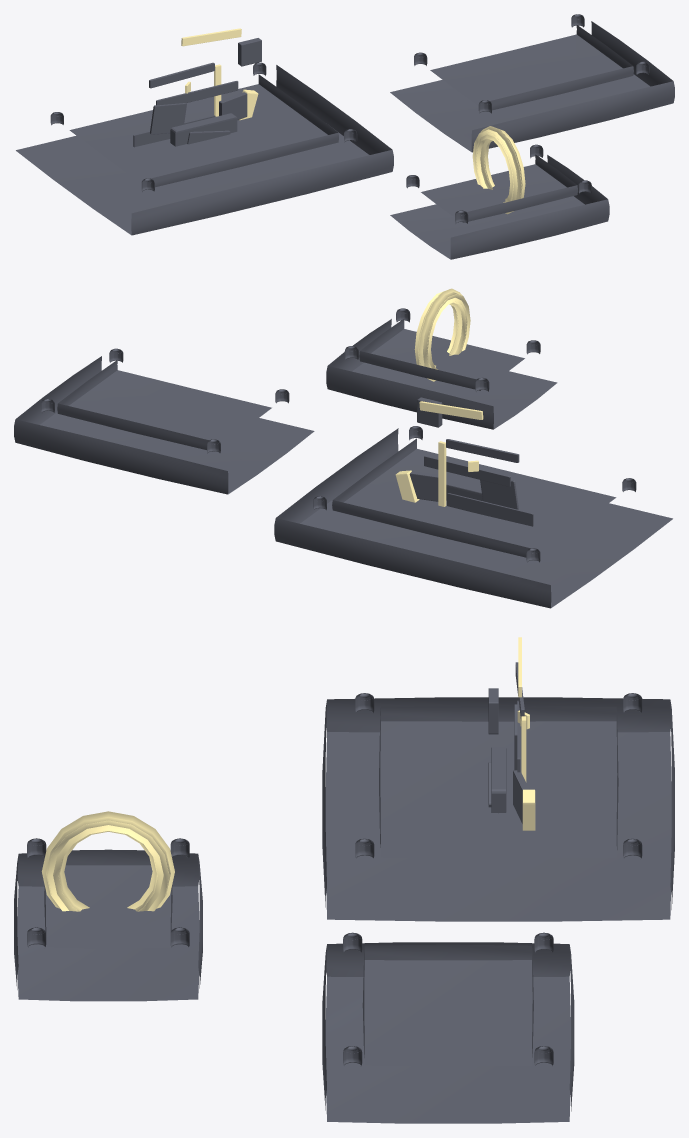
File: greeble_hatches.glb
3 renders of one model, top to bottom at view 1: azimuth 30°, elevation 25°; view 2: azimuth 150°, elevation 25°; view 3: azimuth 270°, elevation 25°, orthographic. The views are drawn at different scales.
Parts seen in each view (by area): view 1: greeble_hatches_Material_Hull_Merged, greeble_hatches_Material_Mechanical_Merged, Hatch_Handle, DET_mount_flange, DET_micro_scratch_plate, DET_hatch_seam, DET_panel_line_emphasis, DET_cavity_grime_vent, DET_latch_plate, DET_edge_chamfer_band, DET_rivet_row; view 2: greeble_hatches_Material_Hull_Merged, greeble_hatches_Material_Mechanical_Merged, Hatch_Handle, DET_rivet_row, DET_hatch_seam, DET_micro_scratch_plate, DET_panel_line_emphasis, DET_latch_plate, DET_edge_chamfer_band, DET_faction_stripe_port, DET_mount_flange, DET_cavity_grime_vent; view 3: greeble_hatches_Material_Hull_Merged, greeble_hatches_Material_Mechanical_Merged, Hatch_Handle, DET_mount_flange.
Part boxes in pixels (x1,y1,x2,y2): greeble_hatches_Material_Hull_Merged: [16, 21, 674, 259]; greeble_hatches_Material_Mechanical_Merged: [50, 14, 649, 223]; Hatch_Handle: [472, 126, 525, 214]; DET_mount_flange: [170, 113, 237, 146]; DET_micro_scratch_plate: [150, 103, 186, 134]; DET_hatch_seam: [156, 81, 238, 105]; DET_panel_line_emphasis: [149, 62, 214, 88]; DET_cavity_grime_vent: [238, 38, 261, 66]; DET_latch_plate: [219, 92, 247, 120]; DET_edge_chamfer_band: [181, 28, 241, 46]; DET_rivet_row: [133, 115, 215, 147]; greeble_hatches_Material_Hull_Merged: [14, 319, 672, 608]; greeble_hatches_Material_Mechanical_Merged: [41, 308, 636, 562]; Hatch_Handle: [414, 288, 470, 381]; DET_rivet_row: [447, 493, 533, 526]; DET_hatch_seam: [424, 456, 510, 486]; DET_micro_scratch_plate: [480, 480, 518, 509]; DET_panel_line_emphasis: [446, 439, 519, 462]; DET_latch_plate: [409, 471, 438, 501]; DET_edge_chamfer_band: [419, 401, 483, 419]; DET_faction_stripe_port: [438, 441, 446, 506]; DET_mount_flange: [446, 479, 482, 500]; DET_cavity_grime_vent: [417, 397, 442, 427]; greeble_hatches_Material_Hull_Merged: [14, 697, 674, 1123]; greeble_hatches_Material_Mechanical_Merged: [27, 693, 642, 1066]; Hatch_Handle: [41, 811, 174, 911]; DET_mount_flange: [491, 747, 506, 813].
Size of the model in its own units: 3.7 by 0.9502 by 2.62.
